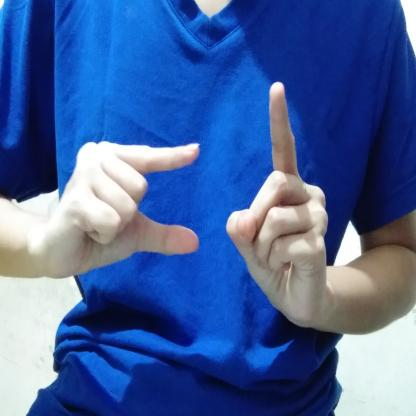daughter: (52, 78, 356, 334)
